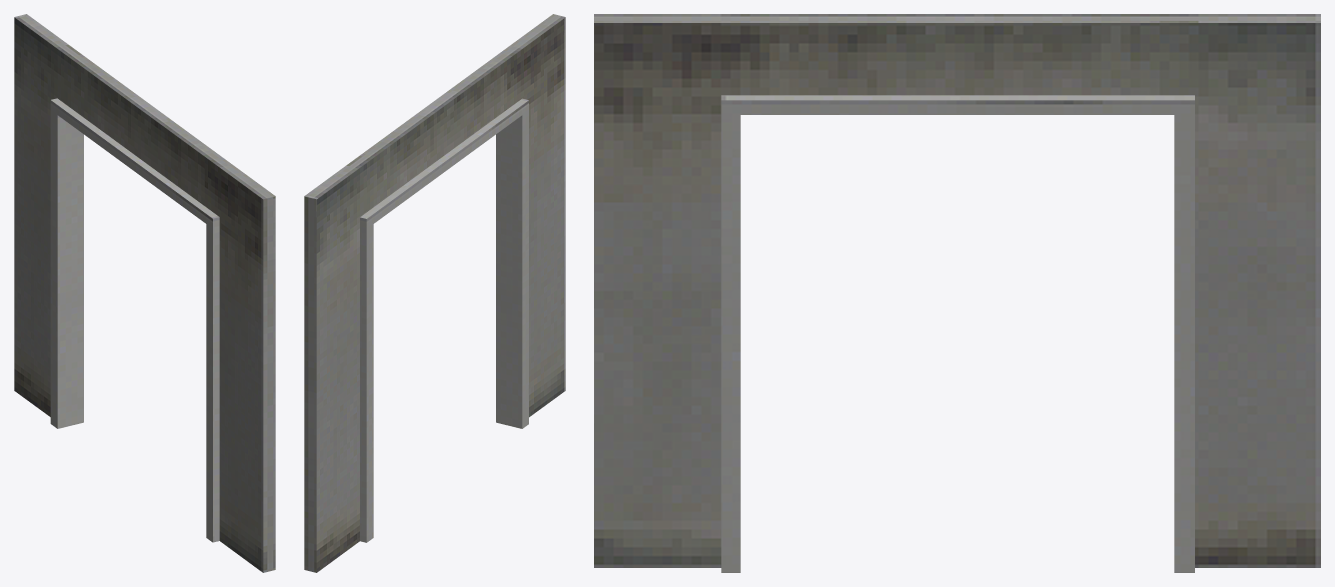
File: SM_Hallway_Doorway.fbx
The picture shows the model from 3 angles, left to right: view 1: azimuth 30°, elevation 25°; view 2: azimuth 150°, elevation 25°; view 3: azimuth 270°, elevation 25°; orthographic projection. The views are drawn at different scales.
Visible parts, largest first — view 1: SM_Hallway_Doorway; view 2: SM_Hallway_Doorway; view 3: SM_Hallway_Doorway.
Part boxes in pixels (x1=…): SM_Hallway_Doorway: x1=14, y1=14, x2=275, y2=572; SM_Hallway_Doorway: x1=304, y1=14, x2=565, y2=572; SM_Hallway_Doorway: x1=594, y1=14, x2=1320, y2=572.
Size of the model in its own units: 18.54 by 250 by 302.
